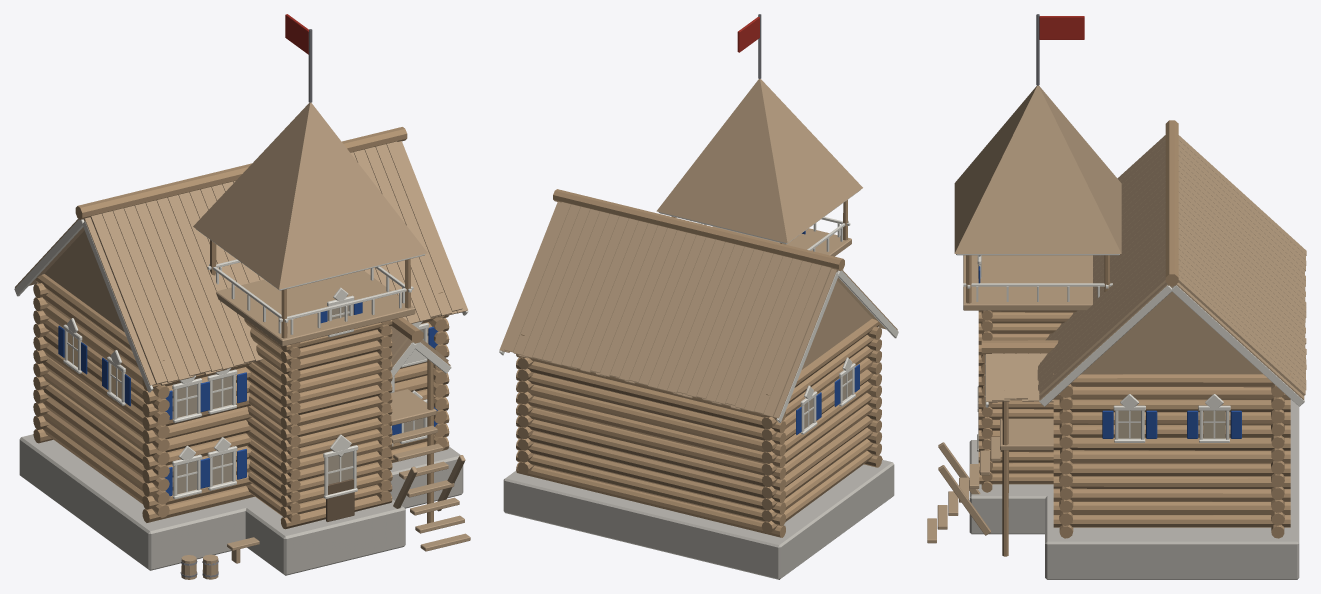
File: bld_townhall_e1.glb
3 views of the same model, side by side, from view 1: azimuth 30°, elevation 25°; view 2: azimuth 150°, elevation 25°; view 3: azimuth 270°, elevation 25° (orthographic). The views are drawn at different scales.
Visible parts, largest first — view 1: townhall; view 2: townhall; view 3: townhall.
Boxes of the visible parts, x1,y1,x2,y2 form: townhall: (14, 14, 470, 579); townhall: (499, 14, 898, 579); townhall: (927, 14, 1306, 579).
Size of the model in its own units: 2.58 by 3.84 by 2.69.
